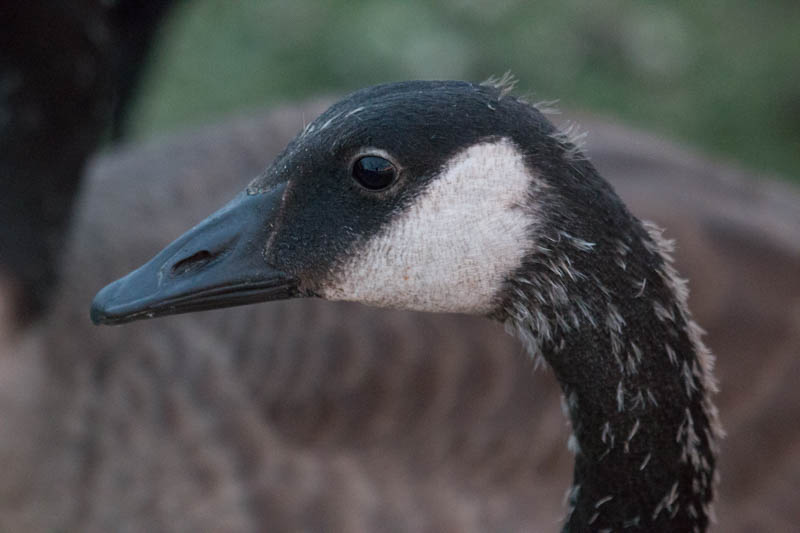goose-head: (89, 78, 619, 327)
